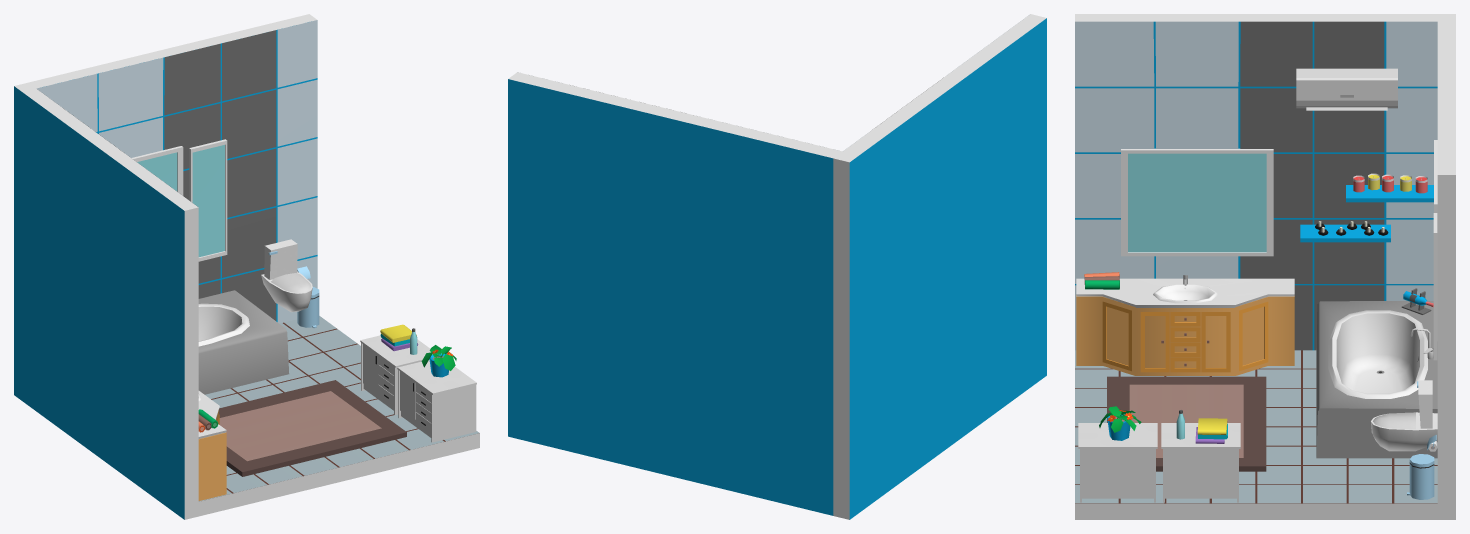
The model's file is room_6.glb.
The picture shows the model from 3 angles, left to right: view 1: azimuth 30°, elevation 25°; view 2: azimuth 150°, elevation 25°; view 3: azimuth 270°, elevation 25°; orthographic projection. The views are drawn at different scales.
Parts seen in each view (by area): view 1: Walls_075.014, wall_019.002, carpet_001.002, floor_008.001, bathroom_item_023.001, Walls_056.003, shelf_052.002, Walls_075.013, picture_041.002, shelf_052.003, bathroom_item_005.001, bathroom_item_024.001 (+4 smaller); view 2: Walls_075.013, Walls_075.014; view 3: wall_019.001, bathroom_item_024.001, picture_041.003, bathroom_item_023.001, floor_008.001, Walls_075.013, carpet_001.002, Walls_056.003, Walls_075.014, shelf_052.002, shelf_052.003, electronics_027.001 (+9 smaller).
Part boxes in pixels (x1,y1,x2,y2): Walls_075.014: [14, 82, 198, 519]; wall_019.002: [36, 20, 317, 323]; carpet_001.002: [219, 380, 406, 476]; floor_008.001: [199, 316, 479, 501]; bathroom_item_023.001: [198, 290, 289, 394]; Walls_056.003: [198, 322, 479, 516]; shelf_052.002: [397, 359, 476, 442]; Walls_075.013: [28, 14, 317, 321]; picture_041.002: [189, 139, 227, 261]; shelf_052.003: [360, 335, 432, 415]; bathroom_item_005.001: [261, 239, 312, 312]; bathroom_item_024.001: [198, 391, 226, 500]; Walls_075.013: [508, 72, 842, 515]; Walls_075.014: [833, 14, 1046, 519]; wall_019.001: [1075, 21, 1437, 350]; bathroom_item_024.001: [1076, 275, 1294, 375]; picture_041.003: [1121, 148, 1273, 256]; bathroom_item_023.001: [1316, 301, 1437, 458]; floor_008.001: [1075, 350, 1437, 503]; Walls_075.013: [1437, 21, 1455, 519]; carpet_001.002: [1107, 376, 1266, 471]; Walls_056.003: [1075, 350, 1437, 519]; Walls_075.014: [1075, 14, 1455, 350]; shelf_052.002: [1078, 423, 1157, 502]; shelf_052.003: [1161, 423, 1240, 502]; electronics_027.001: [1296, 68, 1397, 110].
Size of the model in its own units: 4.2 by 4.2 by 4.2.
Materials: 1 (1 with a texture image).
